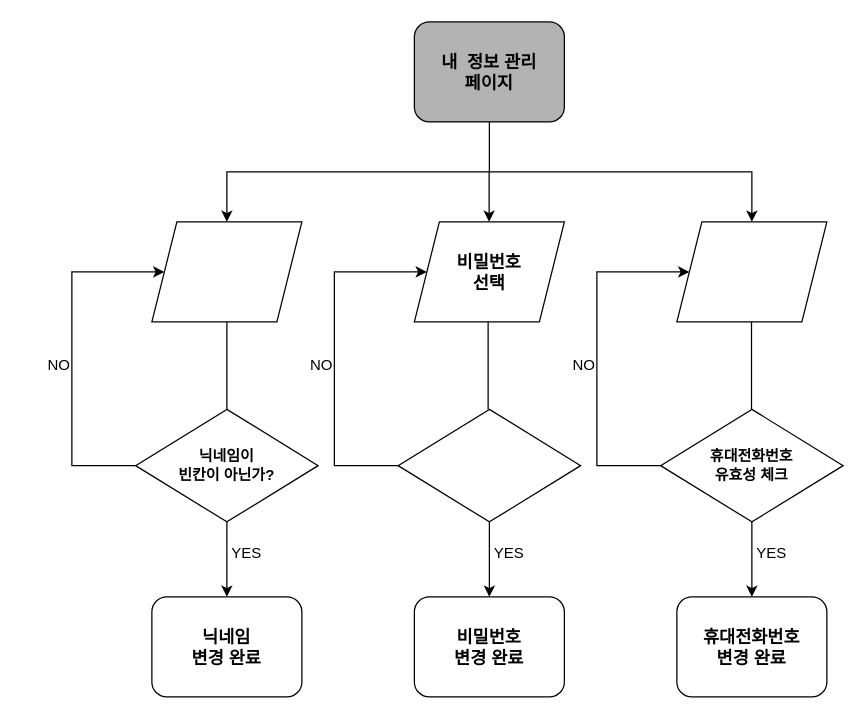
This 865x719 diagram has some shape labels left out. The shapes that lost their labels are listed below. From the top down, each one's centre as x and y in pixels, then its label:
At (x=226, y=271): "닉네임 선택".
At (x=751, y=271): "휴대전화번호 선택".
At (x=489, y=465): "비밀번호 유효성 체크".
